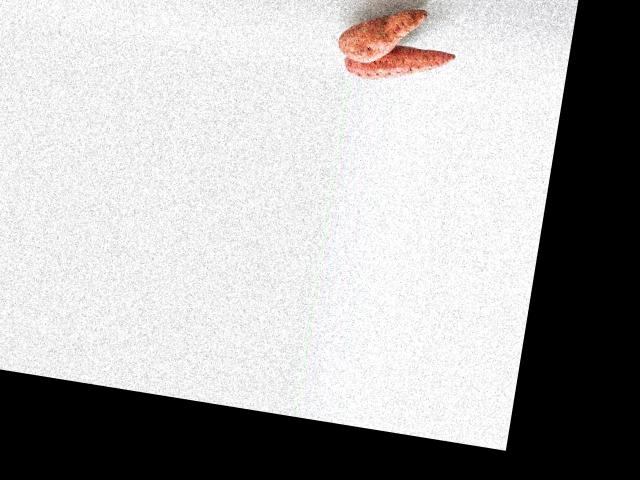sweet_potato: (343, 36, 449, 90)
